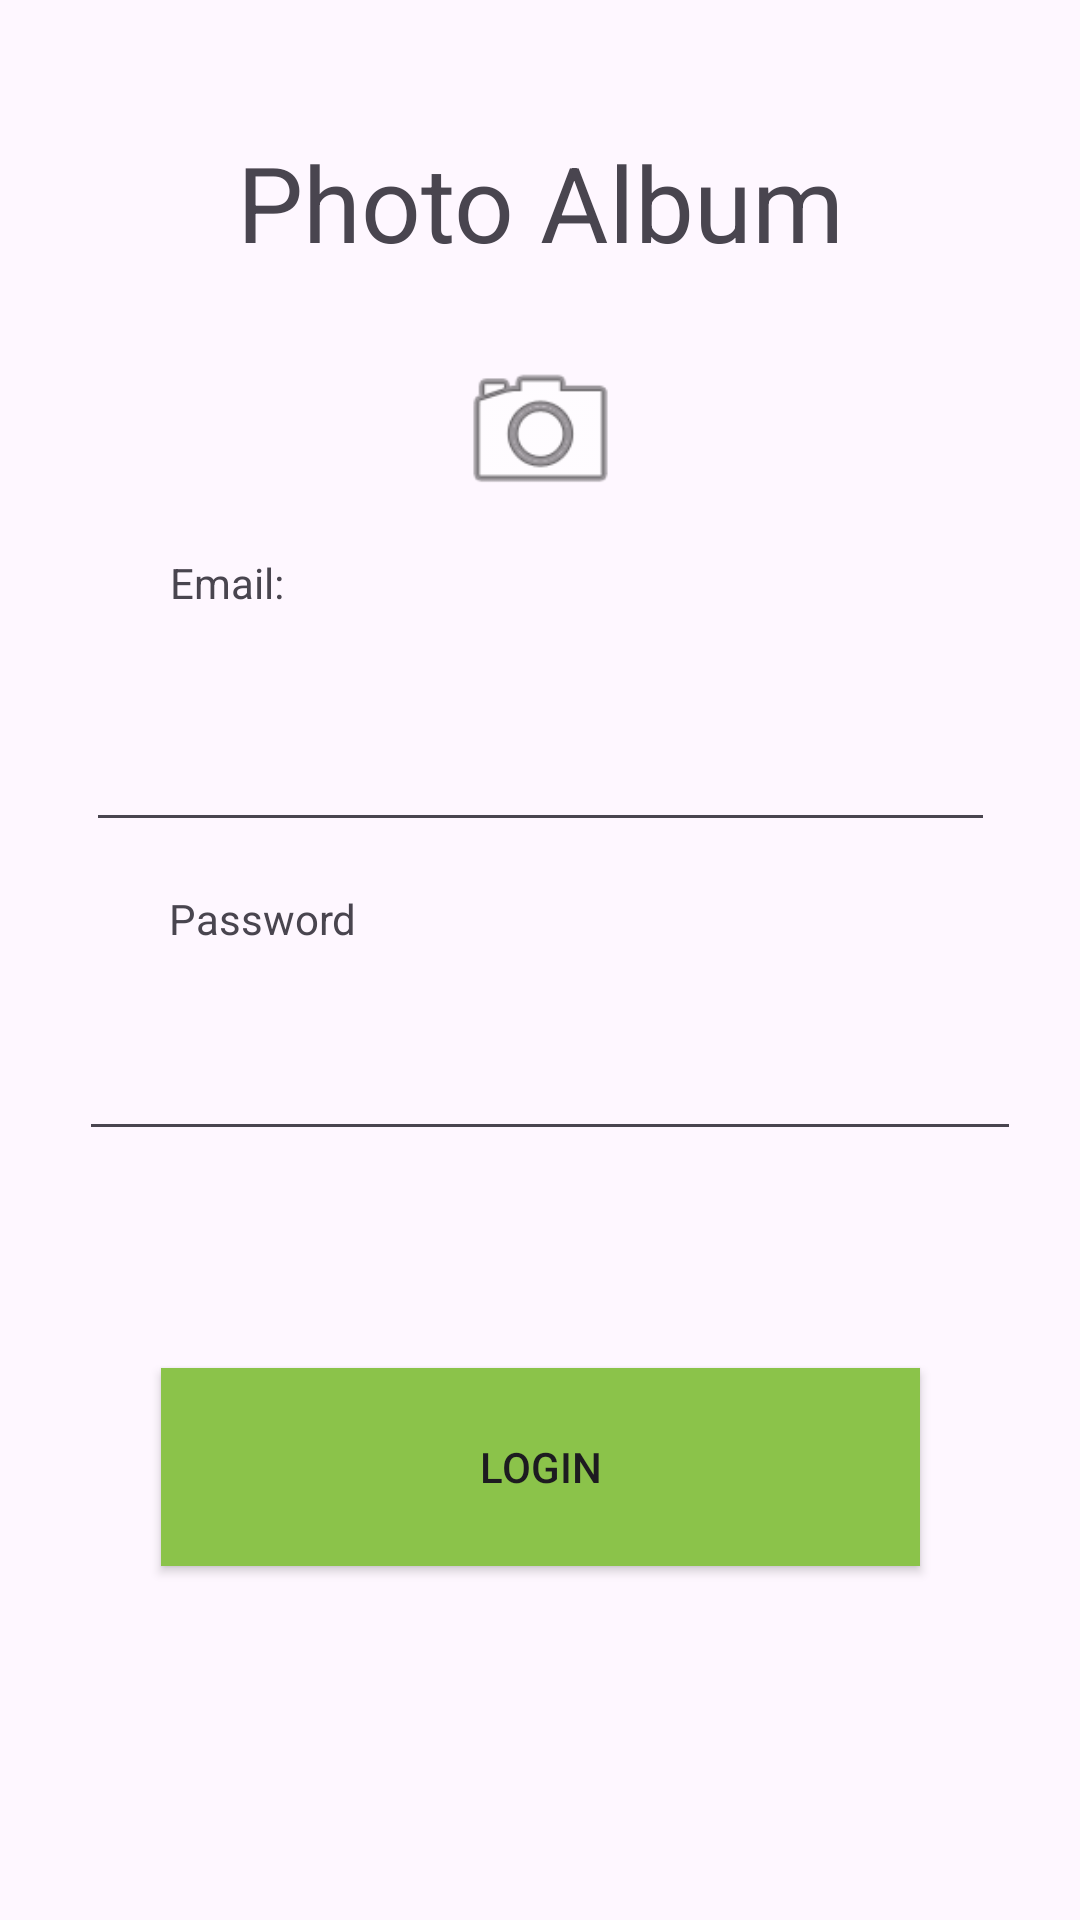

Named icons in this screenshot (1080*1920) and their bounding boxes, (x1, y1, x2, y2):
camera: (473, 375, 608, 482)
